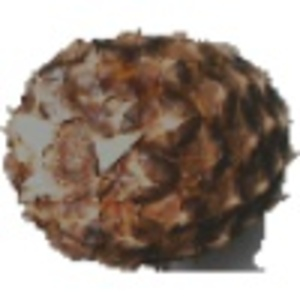abacaxi: (9, 15, 289, 271)
